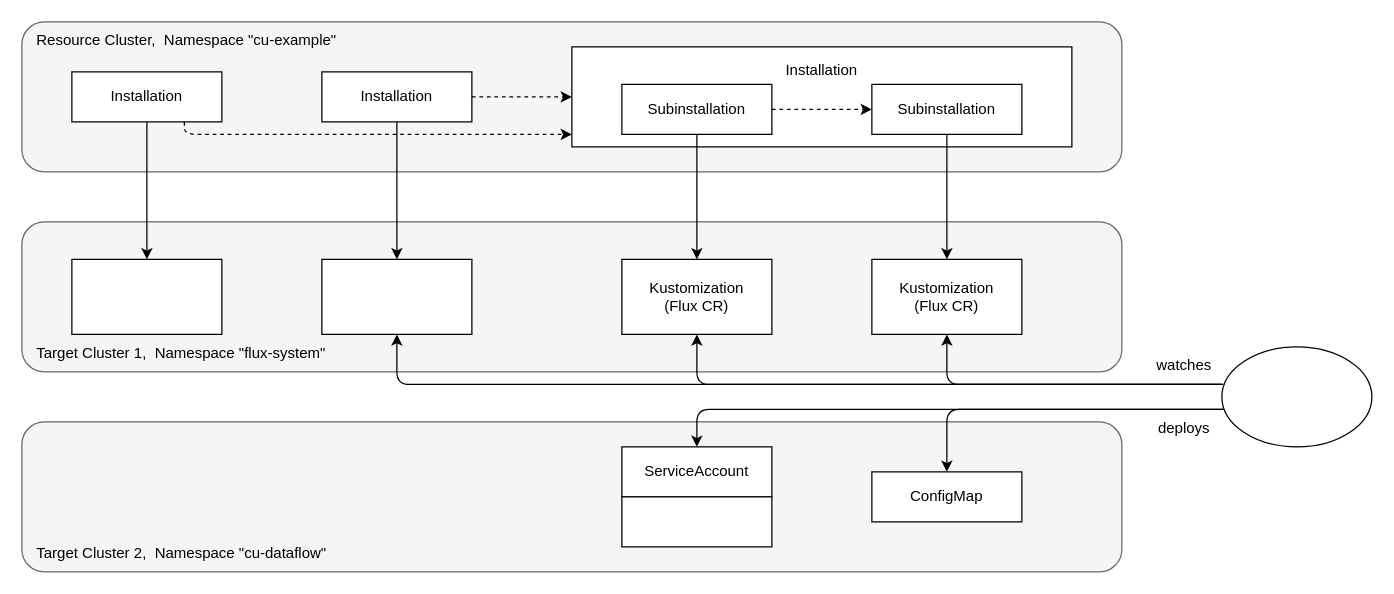
Some shapes in this 1394 by 594 pixel diagram are drawn without their labels. The box of each missing label's shape, as (x1, y1, x2, y2) in pixels:
Flux: (1221, 346, 1372, 447)
GitRepository (Flux CR): (321, 258, 472, 334)
Secret: (621, 496, 772, 547)
Secret with kubeconfig for target cluster 2: (71, 258, 222, 334)
